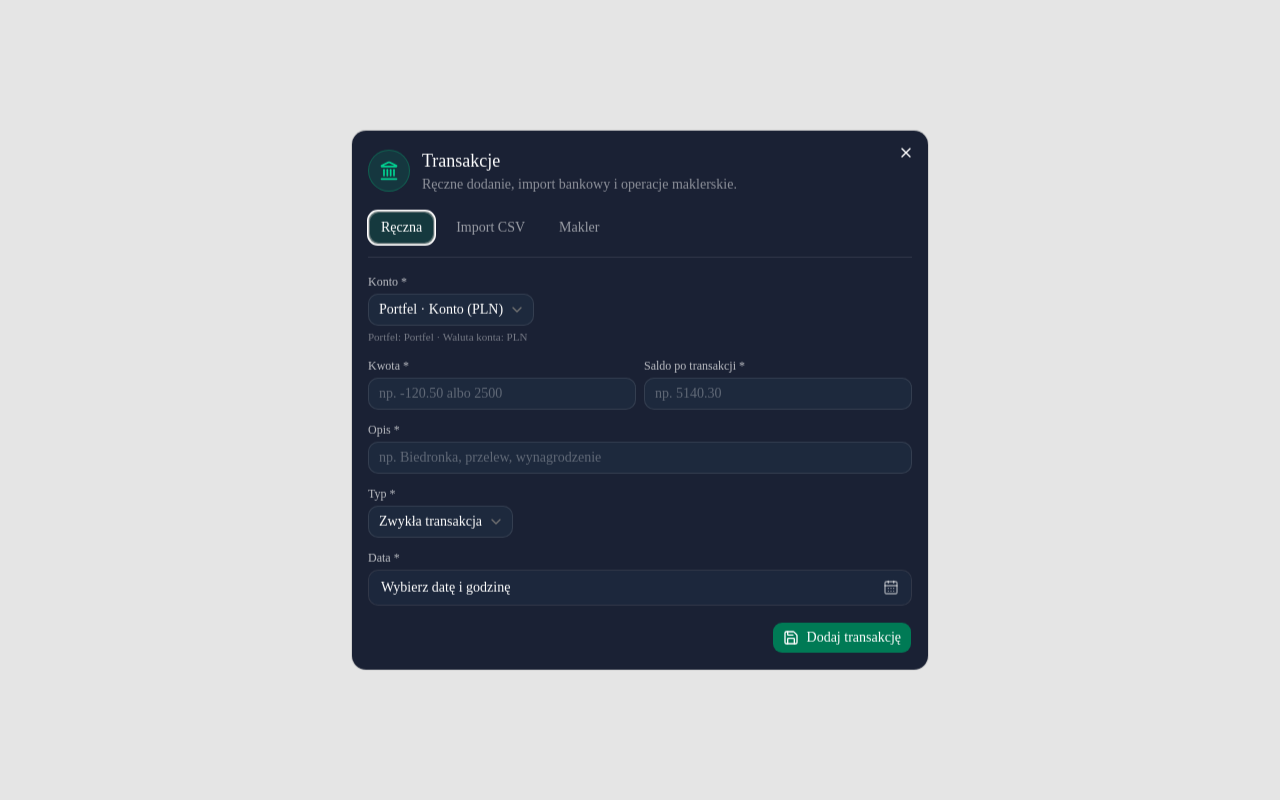
Scenario: TransactionsDialog import preview › shows import unavailable when the parsers API returns an error
Click the button "Import CSV" at point(491, 228), box [443,211,538,245]
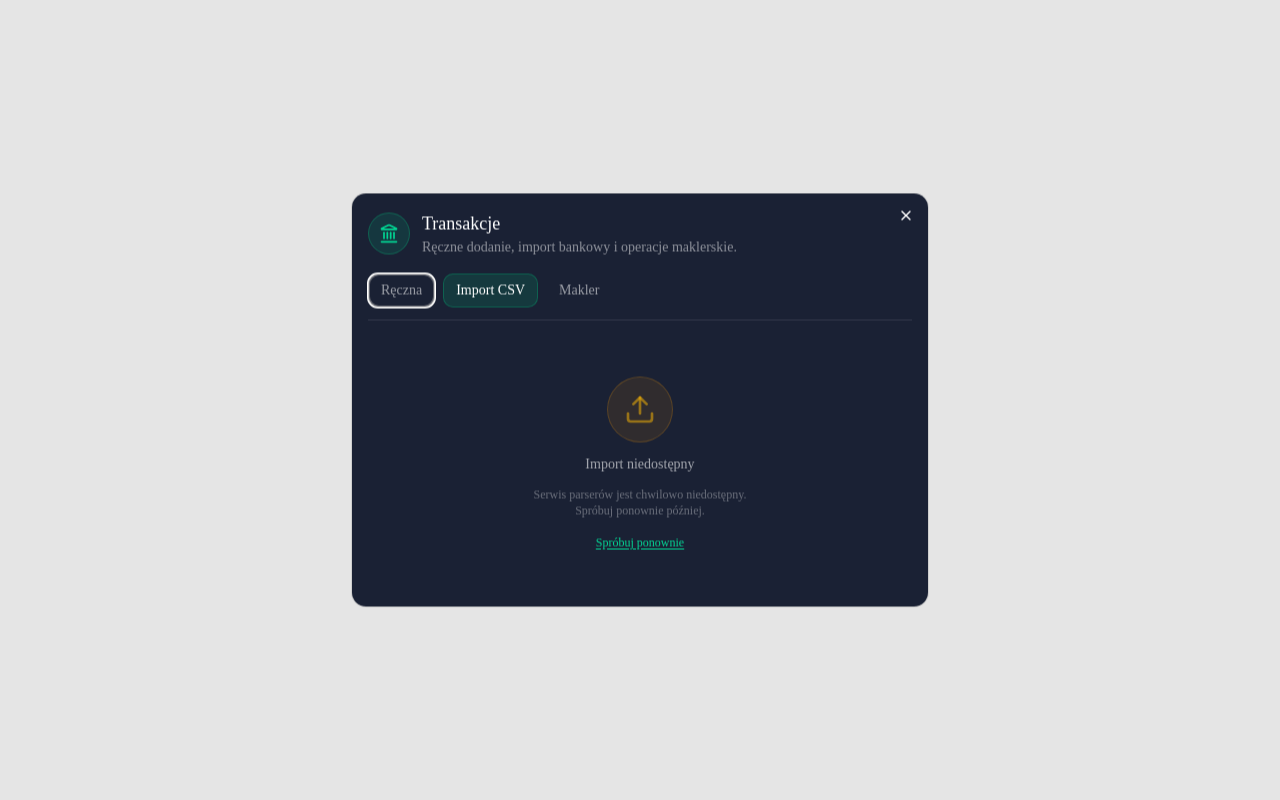
Now the text "Import niedostępny" is shown, box [585,454,695,474]
